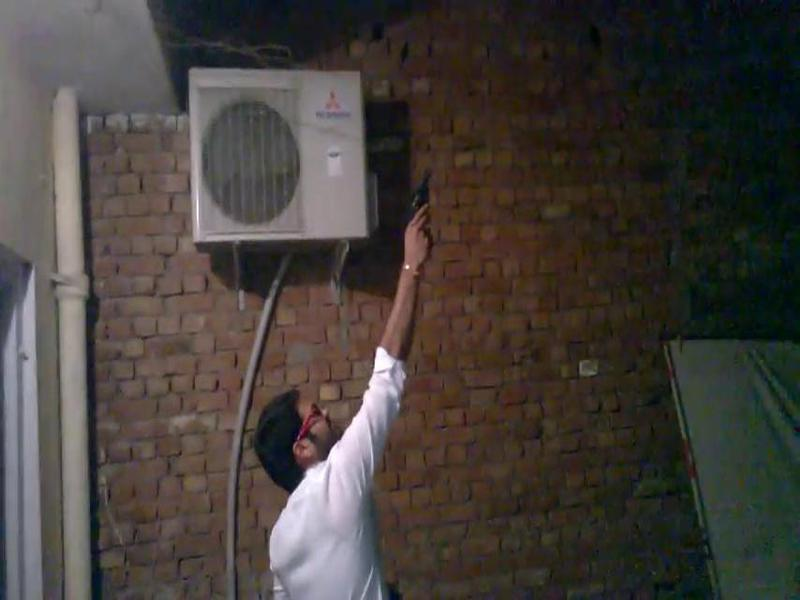Revolver: (404, 150, 460, 268)
